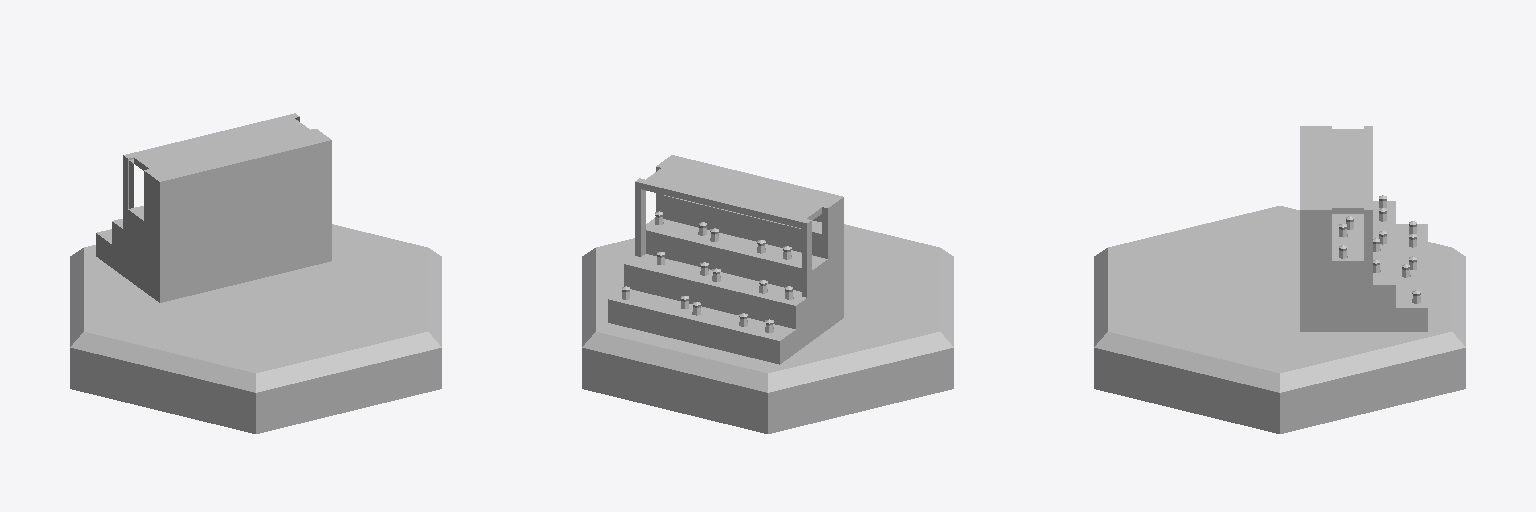
File: publikum.obj
3 views of the same model, side by side, from view 1: azimuth 30°, elevation 25°; view 2: azimuth 150°, elevation 25°; view 3: azimuth 270°, elevation 25° (orthographic).
Visible parts, largest first — view 1: crowd tracks uv_done_textures_needed og; view 2: crowd tracks uv_done_textures_needed og; view 3: crowd tracks uv_done_textures_needed og.
Boxes of the visible parts, x1,y1,x2,y2 form: crowd tracks uv_done_textures_needed og: [70, 113, 441, 433]; crowd tracks uv_done_textures_needed og: [582, 155, 953, 433]; crowd tracks uv_done_textures_needed og: [1094, 126, 1465, 433].
Bounding box in the file's own units: 2 × 0.9 × 1.73.